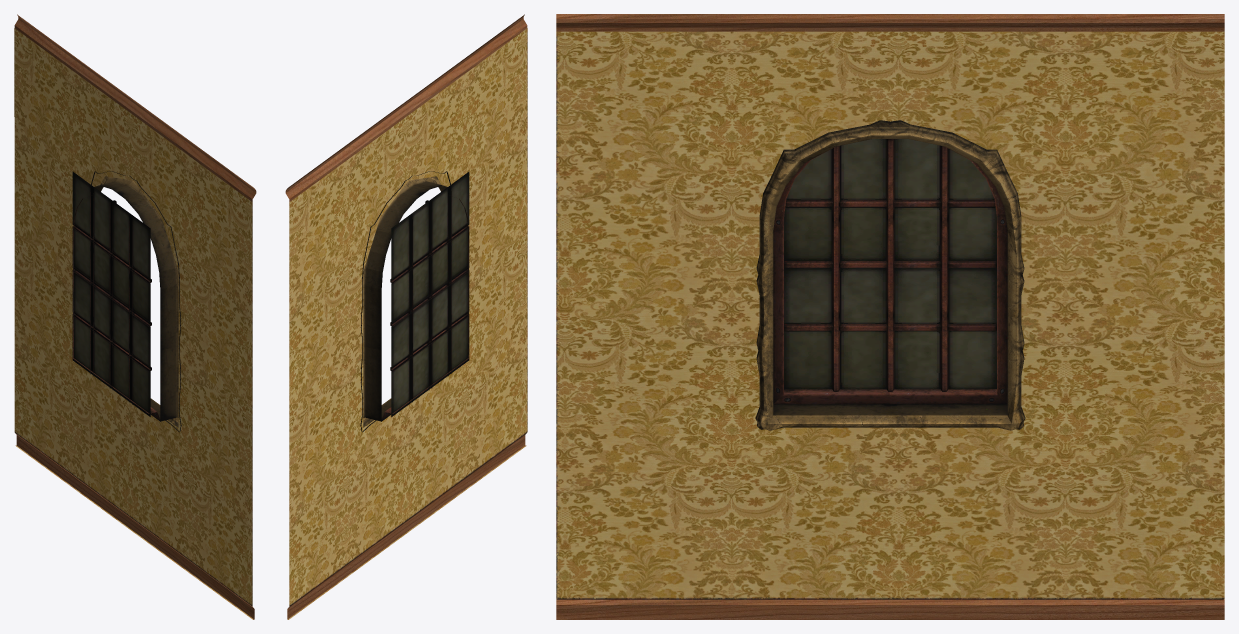
The model's file is gold1_small_window.dae.
3 renders of one model, left to right at view 1: azimuth 30°, elevation 25°; view 2: azimuth 150°, elevation 25°; view 3: azimuth 270°, elevation 25°, orthographic. The views are drawn at different scales.
Visible parts, largest first — view 1: Plane_003, window02_large_gl_001, window02_large_fr_001; view 2: Plane_003, window02_large_gl_001, window02_large_fr_001; view 3: Plane_003, window02_large_gl_001, window02_large_fr_001.
Boxes of the visible parts, x1,y1,x2,y2 form: Plane_003: (14,14,256,619); window02_large_gl_001: (72,171,150,416); window02_large_fr_001: (73,171,181,432); Plane_003: (285,14,527,619); window02_large_gl_001: (391,171,469,416); window02_large_fr_001: (360,171,468,432); Plane_003: (556,14,1224,619); window02_large_gl_001: (784,139,996,389); window02_large_fr_001: (755,120,1025,430).
Size of the model in its own units: 0.2987 by 4 by 4.
